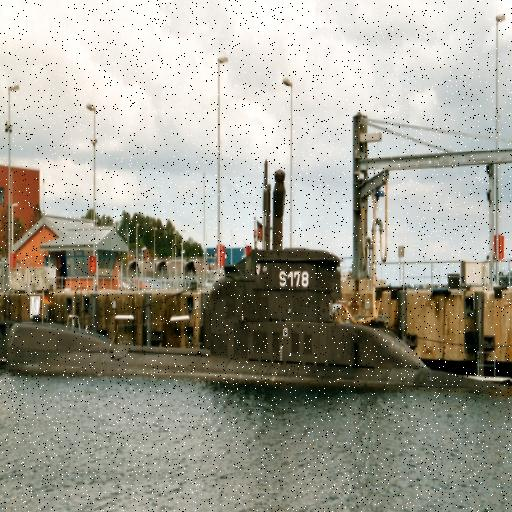submarine: (5, 157, 510, 388)
